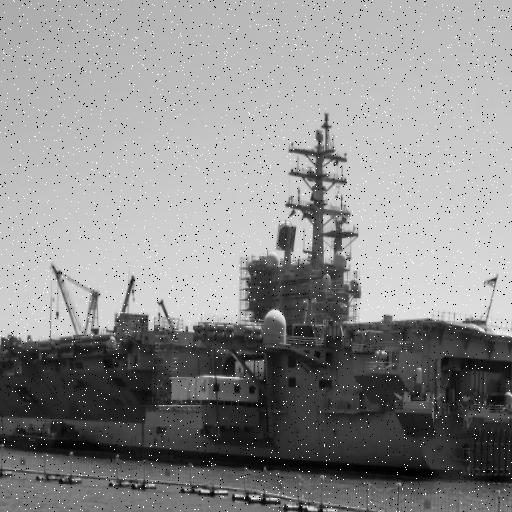Portanaves: (1, 104, 512, 486)
